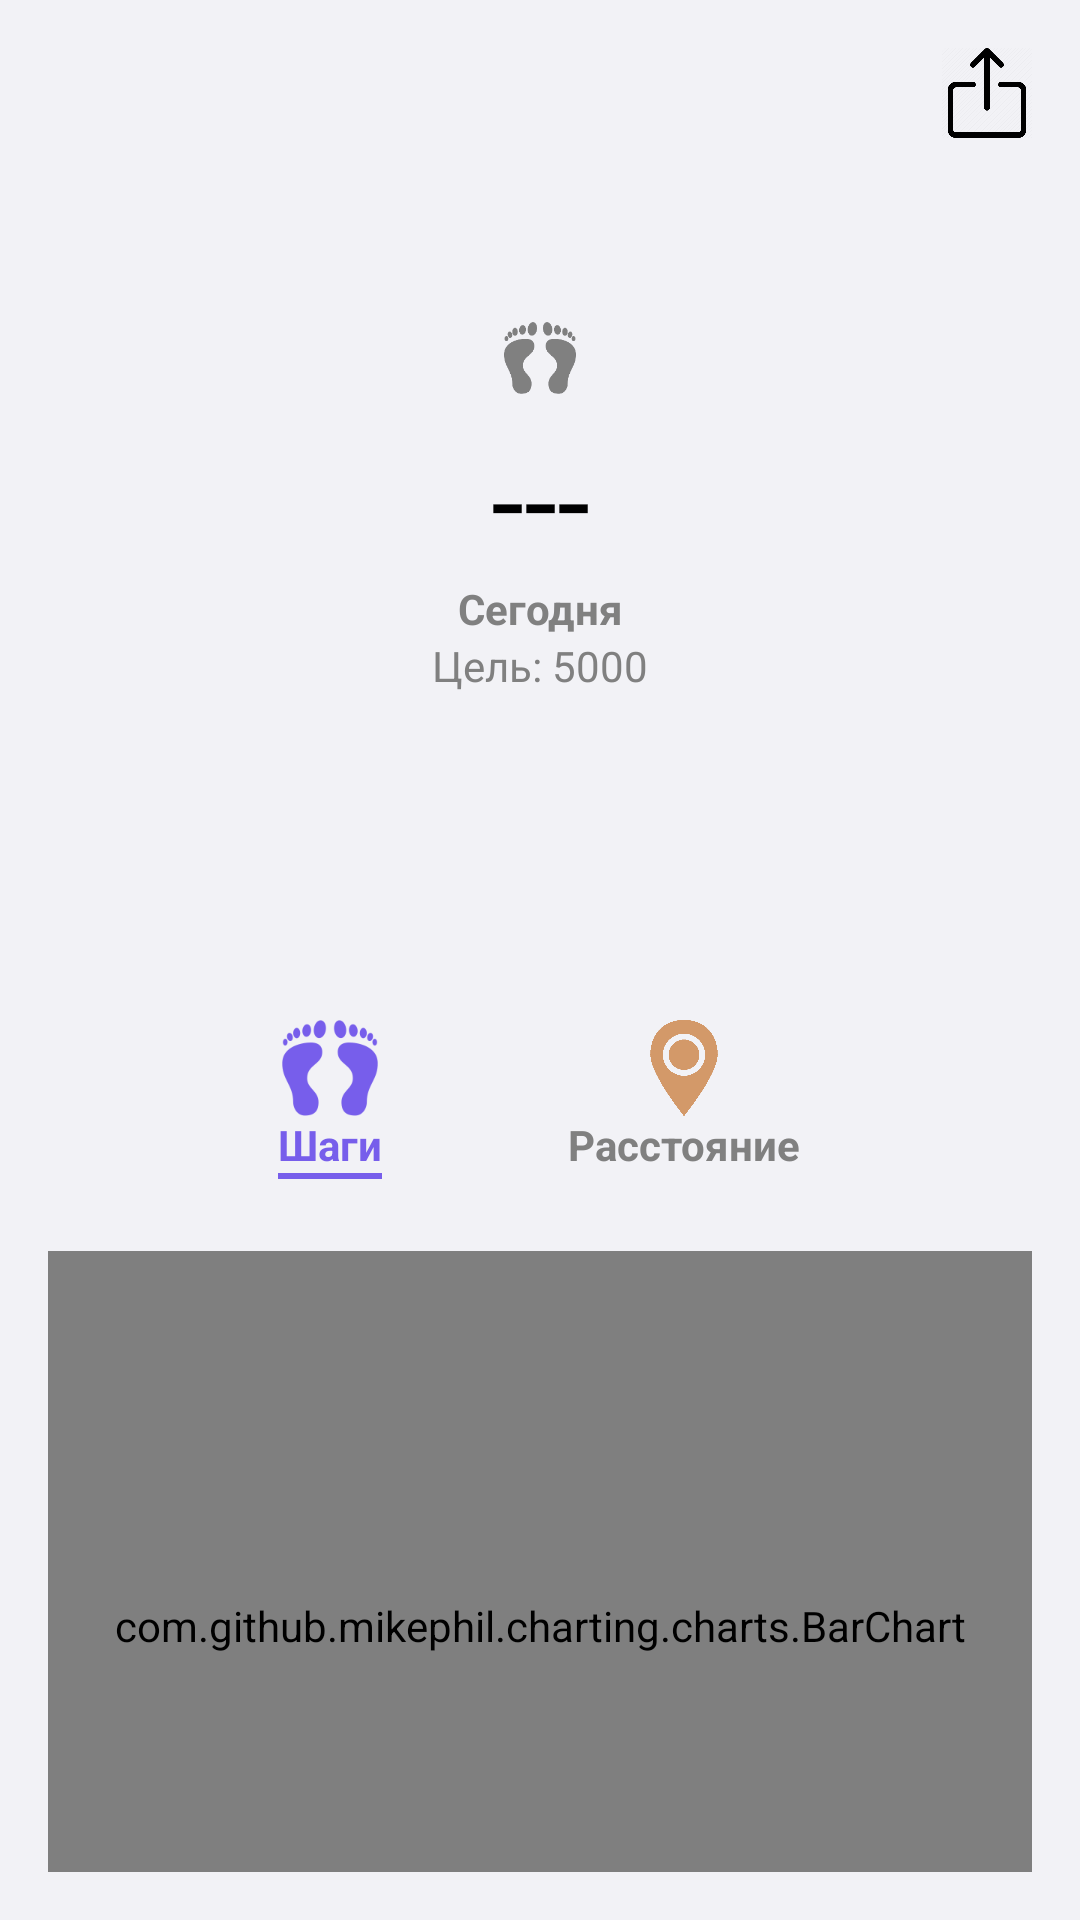

Icon click points for this 1080px×1920px phone screenshot, format (x=x, y=y):
share: (x=987, y=93)
